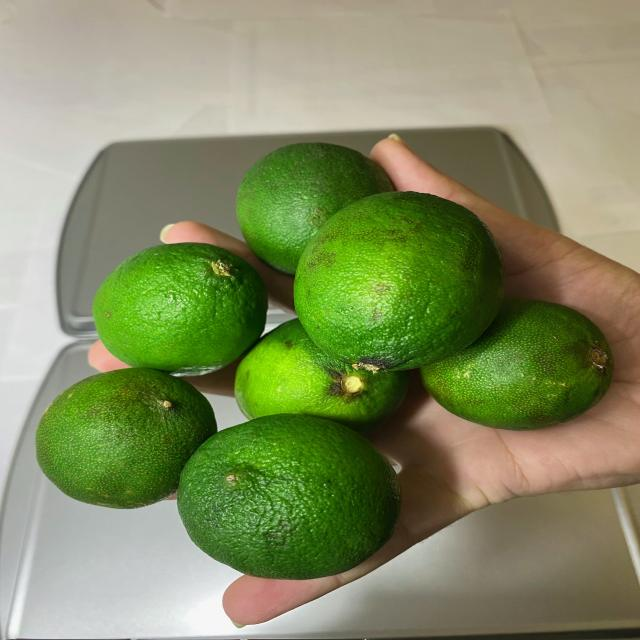lemon: (29, 145, 613, 583)
